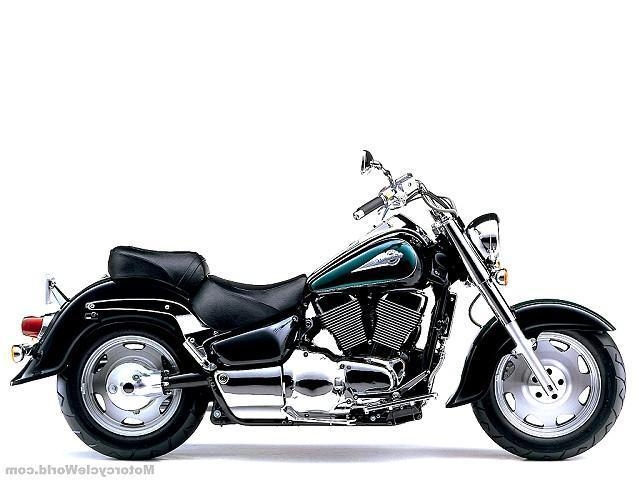motorcycle: (6, 131, 640, 475)
